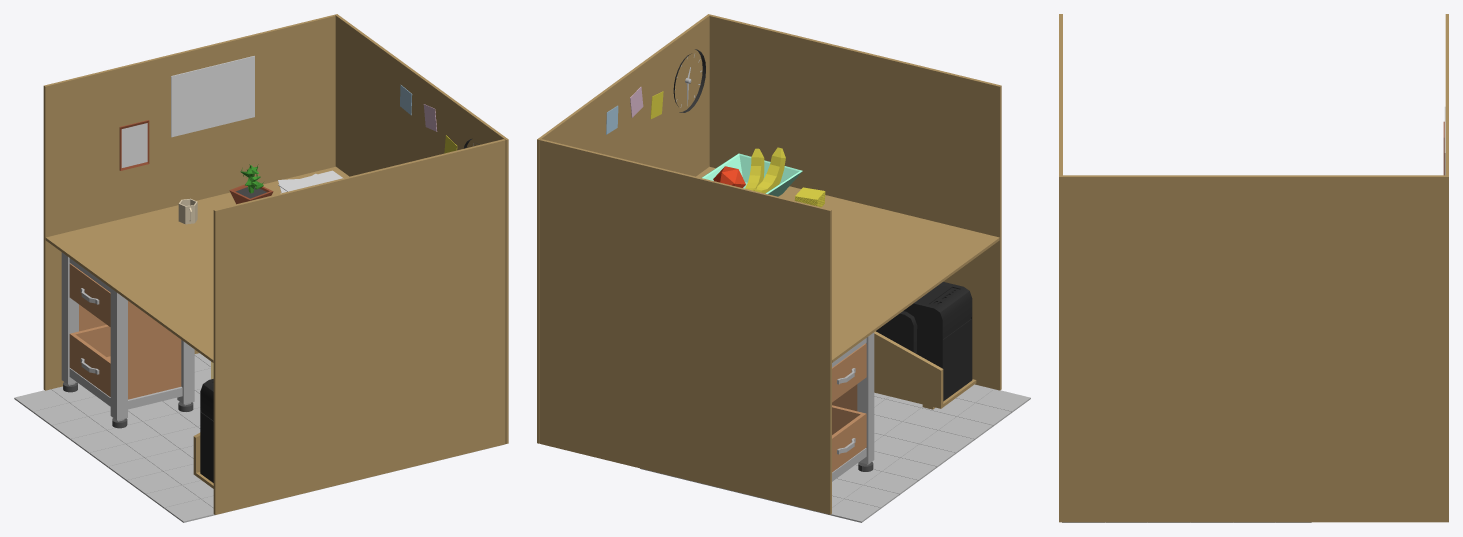
File: FindUnlocked_main_v5.gltf
3 views of the same model, side by side, from view 1: azimuth 30°, elevation 25°; view 2: azimuth 150°, elevation 25°; view 3: azimuth 270°, elevation 25° (orthographic). The views are drawn at different scales.
Parts seen in each view (by area): view 1: FU_Main; view 2: FU_Main; view 3: FU_Main.
Boxes of the visible parts, x1=… form: FU_Main: x1=14, y1=14, x2=508, y2=522; FU_Main: x1=537, y1=14, x2=1030, y2=522; FU_Main: x1=1059, y1=14, x2=1448, y2=522.
Size of the model in its own units: 5.03 by 4.53 by 4.62.
